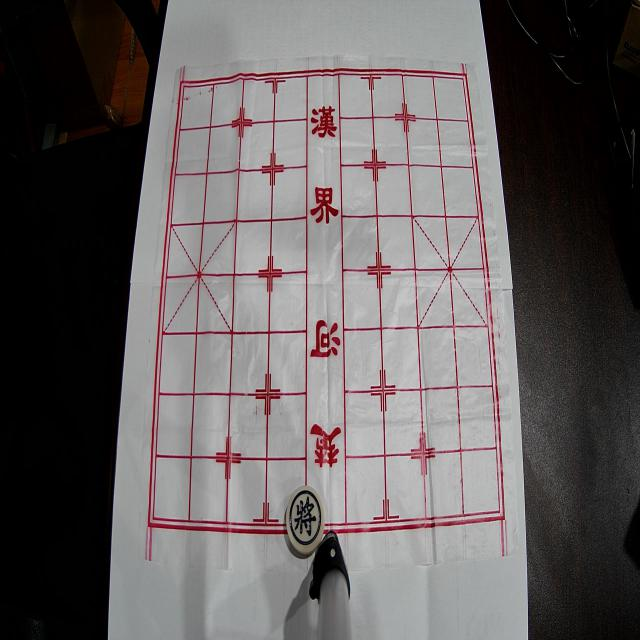black-general: (286, 486, 325, 554)
